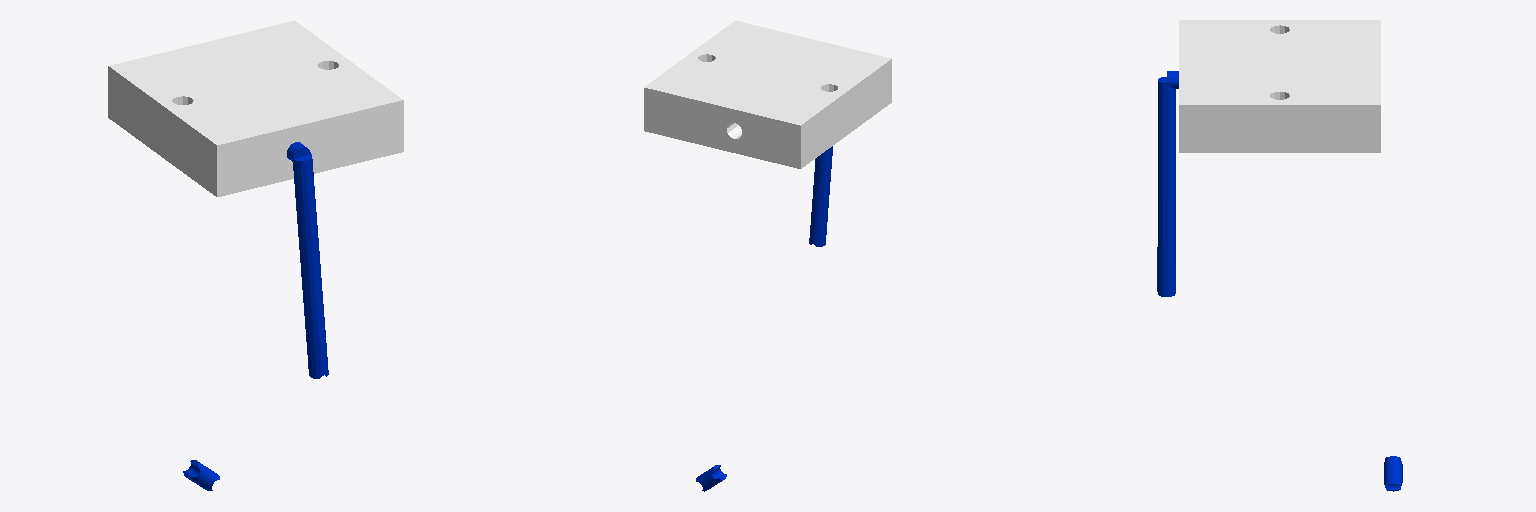
robot.urdf — Latest:
<?xml version="1.0" encoding="utf-8"?>
<!-- This URDF was automatically created by SolidWorks to URDF Exporter! Originally created by [author] ([email redacted]) 
     Commit Version: 1.5.0-0-g9aa0fdb  Build Version: 1.5.7004.21443
     For more information, please see http://wiki.ros.org/sw_urdf_exporter -->
<robot
  name="Latest">
  <link
    name="base_link">
    <inertial>
      <origin
        xyz="0.00122383806382909 -3.17942980033395E-17 0.0659595203814596"
        rpy="0 0 0" />
      <mass
        value="244.9329927506" />
      <inertia
        ixx="5.55262025860006"
        ixy="8.97904351947736E-16"
        ixz="-0.000394714970341267"
        iyy="5.44179501990665"
        iyz="-2.98538984124279E-16"
        izz="10.2631638380994" />
    </inertial>
    <visual>
      <origin
        xyz="0 0 0"
        rpy="0 0 0" />
      <geometry>
        <mesh
          filename="Latest/meshes/base_link.STL" />
      </geometry>
      <material
        name="">
        <color
          rgba="1 1 1 1" />
      </material>
    </visual>
    <collision>
      <origin
        xyz="0 0 0"
        rpy="0 0 0" />
      <geometry>
        <mesh
          filename="Latest/meshes/base_link.STL" />
      </geometry>
    </collision>
  </link>
  <link
    name="Femur_L">
    <inertial>
      <origin
        xyz="0.242203107830059 -0.00284577498225344 0.0924919582228952"
        rpy="0 0 0" />
      <mass
        value="1.0956267569314" />
      <inertia
        ixx="0.000770809917908147"
        ixy="0.000413272308722677"
        ixz="-0.00199415247363703"
        iyy="0.0359395923546767"
        iyz="2.34305677777084E-05"
        izz="0.0354701341892382" />
    </inertial>
    <visual>
      <origin
        xyz="0 0 0"
        rpy="0 0 0" />
      <geometry>
        <mesh
          filename="Latest/meshes/Femur_L.STL" />
      </geometry>
      <material
        name="">
        <color
          rgba="0.00784313725490196 0.23921568627451 0.823529411764706 1" />
      </material>
    </visual>
    <collision>
      <origin
        xyz="0 0 0"
        rpy="0 0 0" />
      <geometry>
        <mesh
          filename="Latest/meshes/Femur_L.STL" />
      </geometry>
    </collision>
  </link>
  <joint
    name="Hip_femur_L"
    type="continuous">
    <origin
      xyz="-0.0385868696304645 0.18 0.0672852031451373"
      rpy="-1.5707963267949 1.50458688118117 0" />
    <parent
      link="base_link" />
    <child
      link="Femur_L" />
    <axis
      xyz="0 0 1" />
    <safety_controller
      k_velocity="0" />
  </joint>
  <link
    name="Tibia_L">
    <inertial>
      <origin
        xyz="0.261668636750511 -0.00305413840682147 -0.0239999991276169"
        rpy="0 0 0" />
      <mass
        value="0.837833351696081" />
      <inertia
        ixx="0.000224729291285804"
        ixy="0.000203159080373753"
        ixz="8.62500209468083E-10"
        iyy="0.0175133040900648"
        iyz="1.47446822077673E-11"
        izz="0.0175171715862385" />
    </inertial>
    <visual>
      <origin
        xyz="0 0 0"
        rpy="0 0 0" />
      <geometry>
        <mesh
          filename="Latest/meshes/Tibia_L.STL" />
      </geometry>
      <material
        name="">
        <color
          rgba="0.00784313725490196 0.23921568627451 0.823529411764706 1" />
      </material>
    </visual>
    <collision>
      <origin
        xyz="0 0 0"
        rpy="0 0 0" />
      <geometry>
        <mesh
          filename="Latest/meshes/Tibia_L.STL" />
      </geometry>
    </collision>
  </link>
  <joint
    name="Femur_tibia_L"
    type="continuous">
    <origin
      xyz="0.557961346760059 -0.00655865516646524 0.0770000001743604"
      rpy="0 0 -0.00193315362723463" />
    <parent
      link="Femur_L" />
    <child
      link="Tibia_L" />
    <axis
      xyz="0 0 -1" />
    <safety_controller
      k_velocity="0" />
  </joint>
  <link
    name="Tarsa_L">
    <inertial>
      <origin
        xyz="0.0302857093798252 -0.00810522006820646 0.070000040207787"
        rpy="0 0 0" />
      <mass
        value="0.101531888424101" />
      <inertia
        ixx="2.83277886698444E-05"
        ixy="2.16015495486522E-07"
        ixz="6.83242656240328E-12"
        iyy="4.67036221075615E-05"
        iyz="6.07677246942435E-12"
        izz="4.96436344707768E-05" />
    </inertial>
    <visual>
      <origin
        xyz="0 0 0"
        rpy="0 0 0" />
      <geometry>
        <mesh
          filename="Latest/meshes/Tarsa_L.STL" />
      </geometry>
      <material
        name="">
        <color
          rgba="0.00784313725490196 0.23921568627451 0.823529411764706 1" />
      </material>
    </visual>
    <collision>
      <origin
        xyz="0 0 0"
        rpy="0 0 0" />
      <geometry>
        <mesh
          filename="Latest/meshes/Tarsa_L.STL" />
      </geometry>
    </collision>
  </link>
  <joint
    name="Tibia_tarsa_L"
    type="continuous">
    <origin
      xyz="0.507031720085334 -0.00595264631811062 -0.0469999948873179"
      rpy="0 0 2.35013161415813" />
    <parent
      link="Tibia_L" />
    <child
      link="Tarsa_L" />
    <axis
      xyz="0 0 -1" />
    <safety_controller
      k_velocity="0" />
  </joint>
  <link
    name="Foot_L">
    <inertial>
      <origin
        xyz="-0.134046955227231 -0.0400232687764869 -0.149551845220791"
        rpy="0 0 0" />
      <mass
        value="0.834771497095713" />
      <inertia
        ixx="0.00329402342120859"
        ixy="-0.00225499866549155"
        ixz="4.00642090430854E-10"
        iyy="0.0132217193918293"
        iyz="2.89352006801103E-10"
        izz="0.0109505994990664" />
    </inertial>
    <visual>
      <origin
        xyz="0 0 0"
        rpy="0 0 0" />
      <geometry>
        <mesh
          filename="Latest/meshes/Foot_L.STL" />
      </geometry>
      <material
        name="">
        <color
          rgba="0.00784313725490196 0.23921568627451 0.823529411764706 1" />
      </material>
    </visual>
    <collision>
      <origin
        xyz="0 0 0"
        rpy="0 0 0" />
      <geometry>
        <mesh
          filename="Latest/meshes/Foot_L.STL" />
      </geometry>
    </collision>
  </link>
  <joint
    name="Tarsa_foot_L"
    type="continuous">
    <origin
      xyz="0.0545835119848165 -0.00841169146295107 0.0929999850227678"
      rpy="0 0 -0.0126879406929578" />
    <parent
      link="Tarsa_L" />
    <child
      link="Foot_L" />
    <axis
      xyz="0 0 0.999999999999996" />
    <safety_controller
      k_velocity="0" />
  </joint>
  <link
    name="Femur_R">
    <inertial>
      <origin
        xyz="0.242203107594868 -0.00284577821776227 -0.0924919582317857"
        rpy="0 0 0" />
      <mass
        value="1.09562675424786" />
      <inertia
        ixx="0.000770809907869584"
        ixy="0.00041327182718053"
        ixz="0.00199415248143469"
        iyy="0.0359395923291157"
        iyz="-2.34302735430893E-05"
        izz="0.0354701341468066" />
    </inertial>
    <visual>
      <origin
        xyz="0 0 0"
        rpy="0 0 0" />
      <geometry>
        <mesh
          filename="Latest/meshes/Femur_R.STL" />
      </geometry>
      <material
        name="">
        <color
          rgba="0.00784313725490196 0.23921568627451 0.823529411764706 1" />
      </material>
    </visual>
    <collision>
      <origin
        xyz="0 0 0"
        rpy="0 0 0" />
      <geometry>
        <mesh
          filename="Latest/meshes/Femur_R.STL" />
      </geometry>
    </collision>
  </link>
  <joint
    name="Hips_femur_R"
    type="continuous">
    <origin
      xyz="-0.0385868696304645 -0.18 0.0672852031451373"
      rpy="-1.5707963267949 1.50458688118117 0" />
    <parent
      link="base_link" />
    <child
      link="Femur_R" />
    <axis
      xyz="0 0 1" />
    <safety_controller
      k_velocity="0" />
  </joint>
  <link
    name="Tibia_R">
    <inertial>
      <origin
        xyz="-0.261668641621138 -0.00305415187488046 -0.0239999993678786"
        rpy="0 0 0" />
      <mass
        value="0.837833381982962" />
      <inertia
        ixx="0.000224729299568724"
        ixy="-0.000203161324382621"
        ixz="-9.6231507005878E-10"
        iyy="0.0175133046826421"
        iyz="-6.79629889802033E-11"
        izz="0.0175171721226335" />
    </inertial>
    <visual>
      <origin
        xyz="0 0 0"
        rpy="0 0 0" />
      <geometry>
        <mesh
          filename="Latest/meshes/Tibia_R.STL" />
      </geometry>
      <material
        name="">
        <color
          rgba="0.00784313725490196 0.23921568627451 0.823529411764706 1" />
      </material>
    </visual>
    <collision>
      <origin
        xyz="0 0 0"
        rpy="0 0 0" />
      <geometry>
        <mesh
          filename="Latest/meshes/Tibia_R.STL" />
      </geometry>
    </collision>
  </link>
  <joint
    name="Femur_tibia_R"
    type="continuous">
    <origin
      xyz="0.557961346760059 -0.00655865516646524 -0.0770000001743603"
      rpy="3.14159265358979 0 3.13965949996256" />
    <parent
      link="Femur_R" />
    <child
      link="Tibia_R" />
    <axis
      xyz="0 0 -1" />
    <safety_controller
      k_velocity="0" />
  </joint>
  <link
    name="Tarsa_R">
    <inertial>
      <origin
        xyz="0.0302857093798253 -0.00810522006820635 -0.0700000402077869"
        rpy="0 0 0" />
      <mass
        value="0.1015318884241" />
      <inertia
        ixx="2.83277886698443E-05"
        ixy="2.16015495486543E-07"
        ixz="-6.8324266020776E-12"
        iyy="4.67036221075615E-05"
        iyz="-6.07677249587479E-12"
        izz="4.96436344707768E-05" />
    </inertial>
    <visual>
      <origin
        xyz="0 0 0"
        rpy="0 0 0" />
      <geometry>
        <mesh
          filename="Latest/meshes/Tarsa_R.STL" />
      </geometry>
      <material
        name="">
        <color
          rgba="0.00784313725490196 0.23921568627451 0.823529411764706 1" />
      </material>
    </visual>
    <collision>
      <origin
        xyz="0 0 0"
        rpy="0 0 0" />
      <geometry>
        <mesh
          filename="Latest/meshes/Tarsa_R.STL" />
      </geometry>
    </collision>
  </link>
  <joint
    name="Tibia_tarsa_R"
    type="continuous">
    <origin
      xyz="-0.507031720085334 -0.00595264631811062 -0.0469999948873179"
      rpy="3.14159265358979 0 0.791461039431664" />
    <parent
      link="Tibia_R" />
    <child
      link="Tarsa_R" />
    <axis
      xyz="0 0 1" />
    <safety_controller
      k_velocity="0" />
  </joint>
  <link
    name="Foot_R">
    <inertial>
      <origin
        xyz="-0.134046955227231 -0.0400232687764865 0.149551845220791"
        rpy="0 0 0" />
      <mass
        value="0.834771497095712" />
      <inertia
        ixx="0.00329402342120859"
        ixy="-0.00225499866549155"
        ixz="-4.00642090655849E-10"
        iyy="0.0132217193918293"
        iyz="-2.89352007983659E-10"
        izz="0.0109505994990664" />
    </inertial>
    <visual>
      <origin
        xyz="0 0 0"
        rpy="0 0 0" />
      <geometry>
        <mesh
          filename="Latest/meshes/Foot_R.STL" />
      </geometry>
      <material
        name="">
        <color
          rgba="0.00784313725490196 0.23921568627451 0.823529411764706 1" />
      </material>
    </visual>
    <collision>
      <origin
        xyz="0 0 0"
        rpy="0 0 0" />
      <geometry>
        <mesh
          filename="Latest/meshes/Foot_R.STL" />
      </geometry>
    </collision>
  </link>
  <joint
    name="Tarsa_foot_R"
    type="continuous">
    <origin
      xyz="0.0545835119848167 -0.00841169146295095 -0.0929999850227678"
      rpy="0 0 -0.0126879406929579" />
    <parent
      link="Tarsa_R" />
    <child
      link="Foot_R" />
    <axis
      xyz="0 0 -0.999999999999996" />
    <safety_controller
      k_velocity="0" />
  </joint>
</robot>

--- Render facts (derived) ---
The picture shows the robot from 3 angles, left to right: view 1: azimuth 30°, elevation 25°; view 2: azimuth 150°, elevation 25°; view 3: azimuth 270°, elevation 25°; orthographic projection.
Robot: Latest — 9 links, 8 joints (8 continuous); root link base_link; default pose: all joints at 0.
Visible links, largest first — view 1: base_link, Femur_R, Tarsa_L; view 2: base_link, Femur_R; view 3: base_link, Femur_R, Tarsa_L.
Link boxes in pixels (left/top/right/bottom): base_link: left=108, top=21, right=403, bottom=196; Femur_R: left=287, top=142, right=328, bottom=378; Tarsa_L: left=183, top=460, right=219, bottom=490; base_link: left=644, top=21, right=891, bottom=168; Femur_R: left=809, top=146, right=832, bottom=246; base_link: left=1179, top=20, right=1380, bottom=152; Femur_R: left=1157, top=71, right=1178, bottom=296; Tarsa_L: left=1384, top=456, right=1402, bottom=491.
Size in the robot's own frame: 0.495 by 0.606 by 1.15 metres.
Meshes: 9 distinct files referenced, 3 mesh visuals loaded (3 binary STL); not drawn: 6 (reference not matched to a file when rendering).